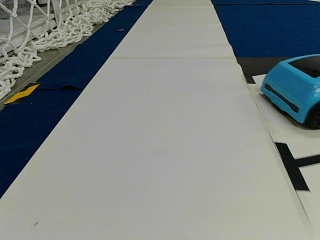car: (259, 50, 320, 129)
